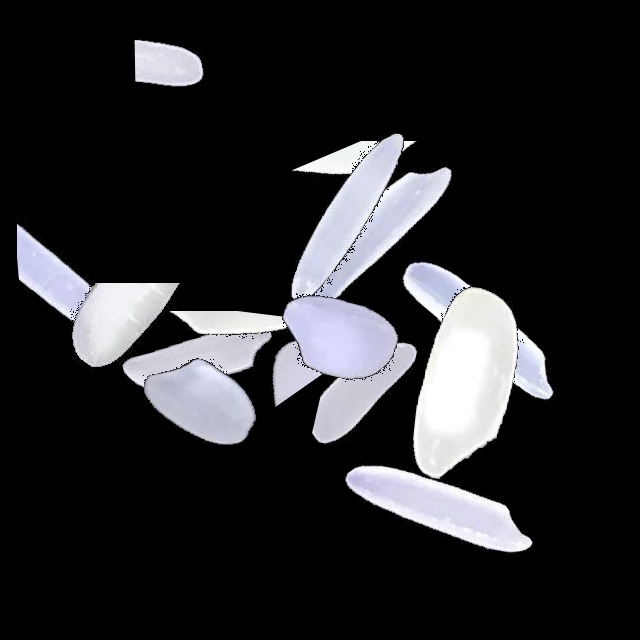Broken: (277, 321, 527, 485), (5, 283, 255, 431), (17, 140, 159, 390), (210, 213, 329, 463), (68, 3, 318, 120), (246, 141, 496, 244), (109, 311, 359, 412)
Full: (246, 113, 496, 363), (311, 385, 561, 635), (358, 203, 608, 453), (75, 233, 325, 483), (223, 91, 473, 341), (76, 275, 326, 525), (212, 211, 462, 461), (340, 260, 590, 510)
